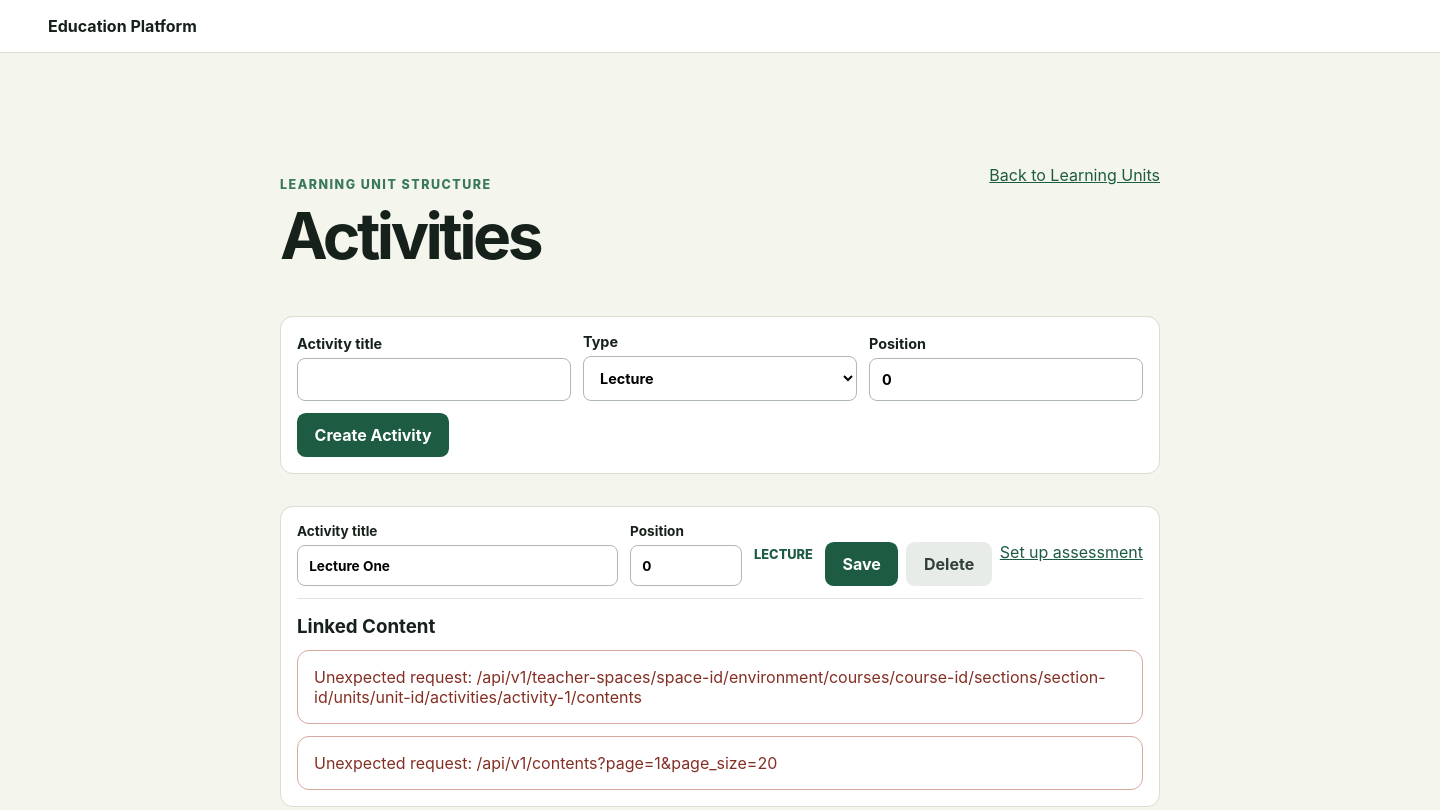
Test: Activity UI › deletes an Activity and refetches the list
The image size is (1440, 810).
Click the button "Delete": {"x": 949, "y": 564} [906, 542, 992, 586]
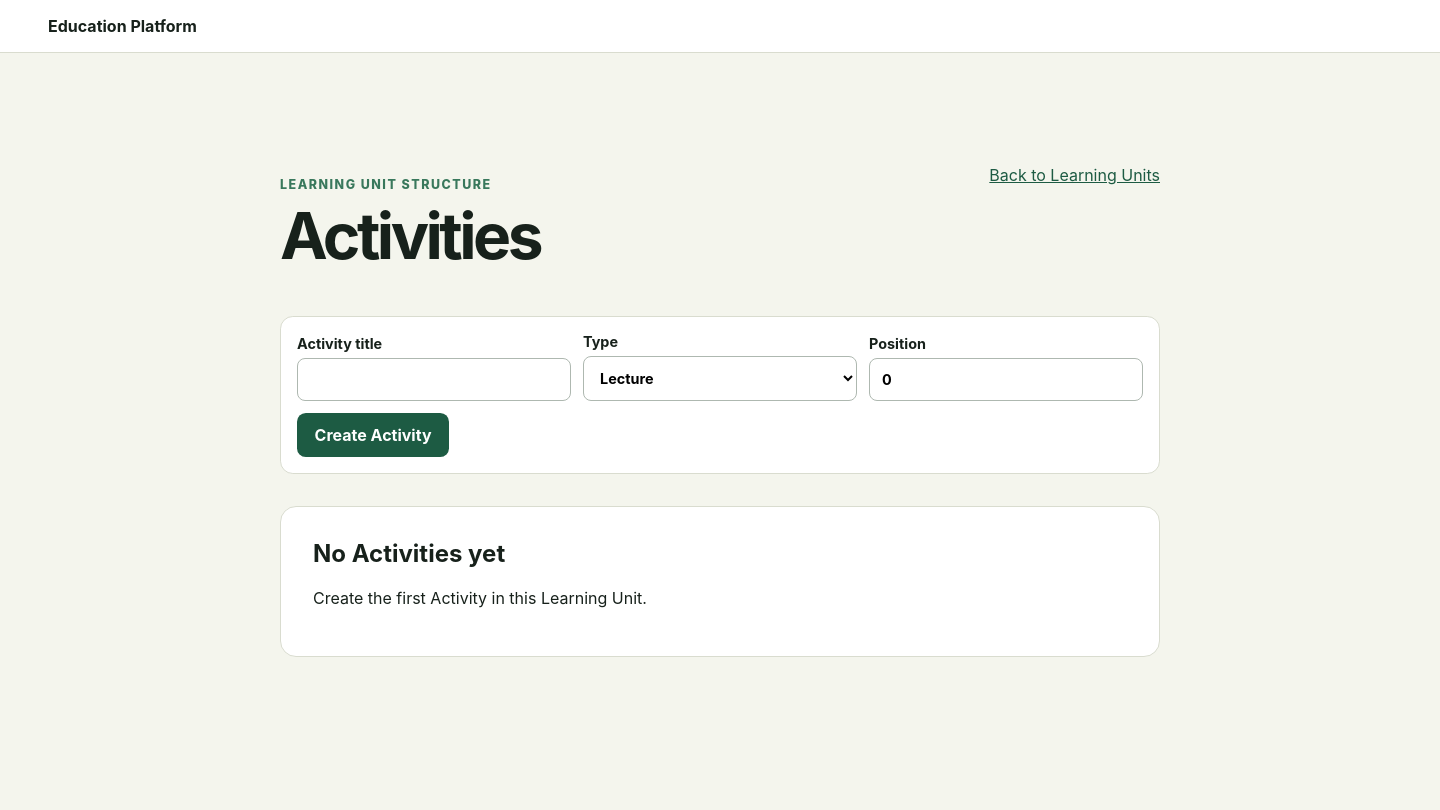
Result: the heading "No Activities yet" is shown at [313, 539, 505, 568]
